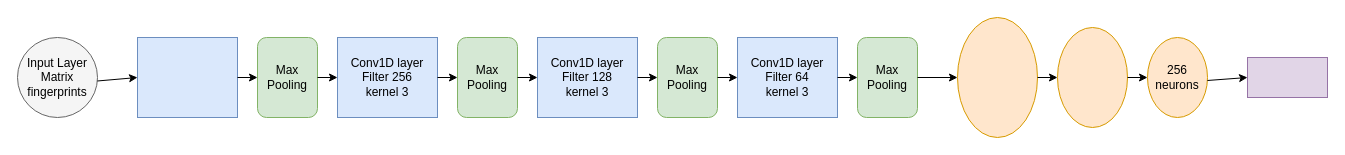
This 1345x155 diagram has some shape labels left out. The shapes that lost their labels are listed below. From the top down, each one's centre as x and y in pixels, then its label:
At (x=187, y=77): "Conv1D layer Filter 512 kernel 3".
At (x=997, y=77): "1024 neurons (Dropout 0.5)".
At (x=1092, y=77): "512 neurons (Dropout 0.5)".
At (x=1287, y=77): "Output (Multi-class)".
